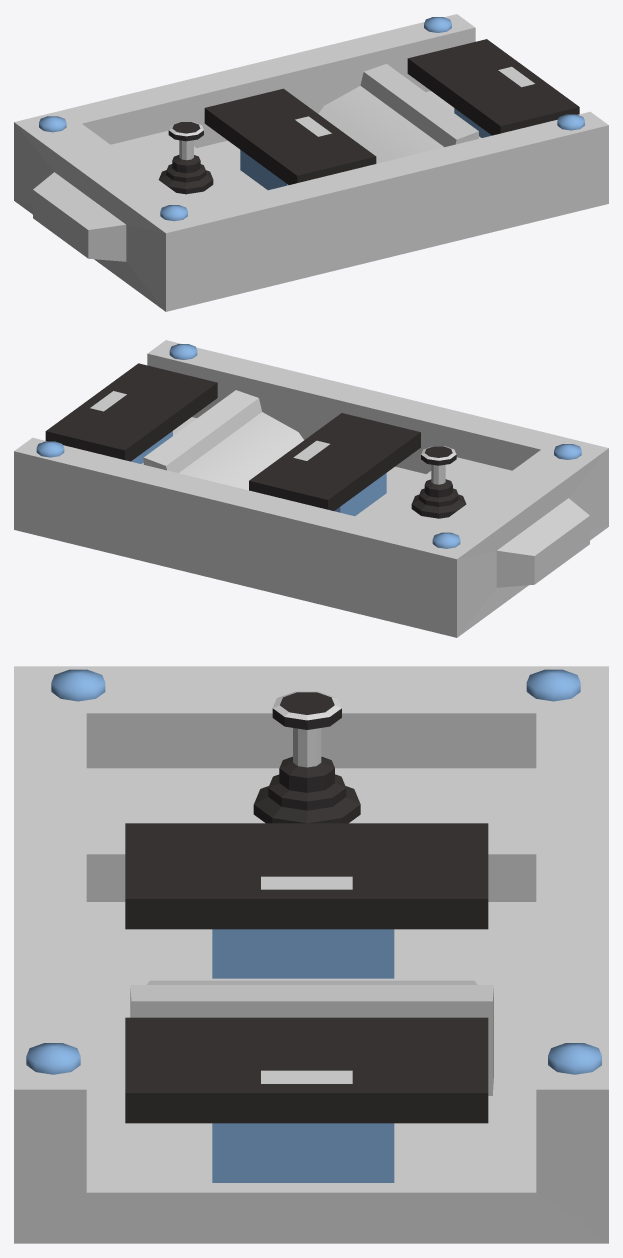
File: FootPedal_Grey.fbx
3 views of the same model, one above another, from view 1: azimuth 30°, elevation 25°; view 2: azimuth 150°, elevation 25°; view 3: azimuth 270°, elevation 25° (orthographic). The views are drawn at different scales.
Parts seen in each view (by area): view 1: FootPedal_Grey; view 2: FootPedal_Grey; view 3: FootPedal_Grey.
Part boxes in pixels (bbox=[...]): FootPedal_Grey: bbox=[14, 14, 608, 311]; FootPedal_Grey: bbox=[14, 340, 608, 637]; FootPedal_Grey: bbox=[14, 666, 608, 1243].
Bounding box in the file's own units: 34.53 × 7.61 × 19.24.
